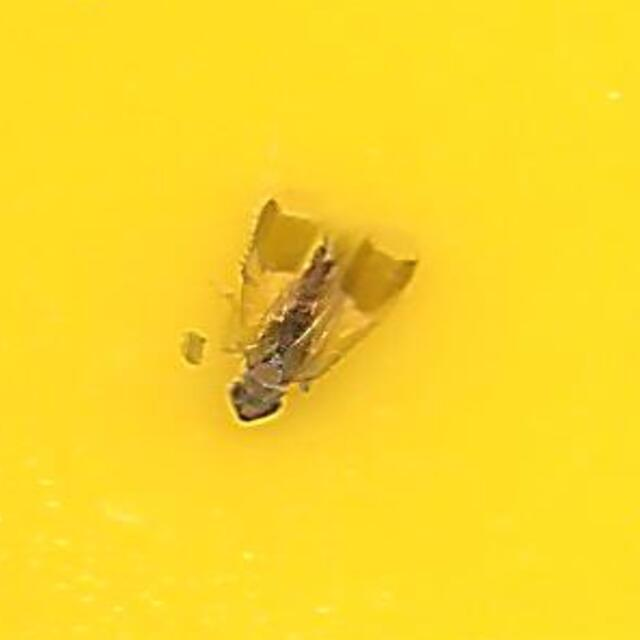Hemiptera: (215, 194, 425, 446)
